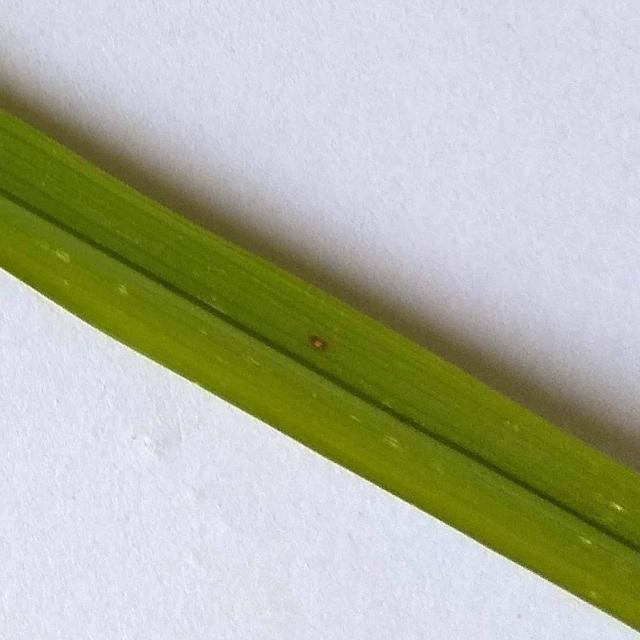Blast: (306, 333, 334, 356)
